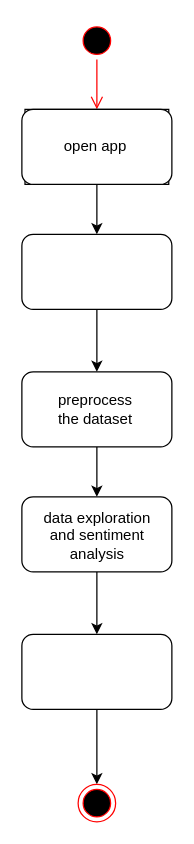
Image size: 194x844. Some labels were removed from this diagram. Each missing label, with the centre of its shape:
"end" belongs at pixel 96 671.
"upload the chat.txt file" belongs at pixel 96 271.
